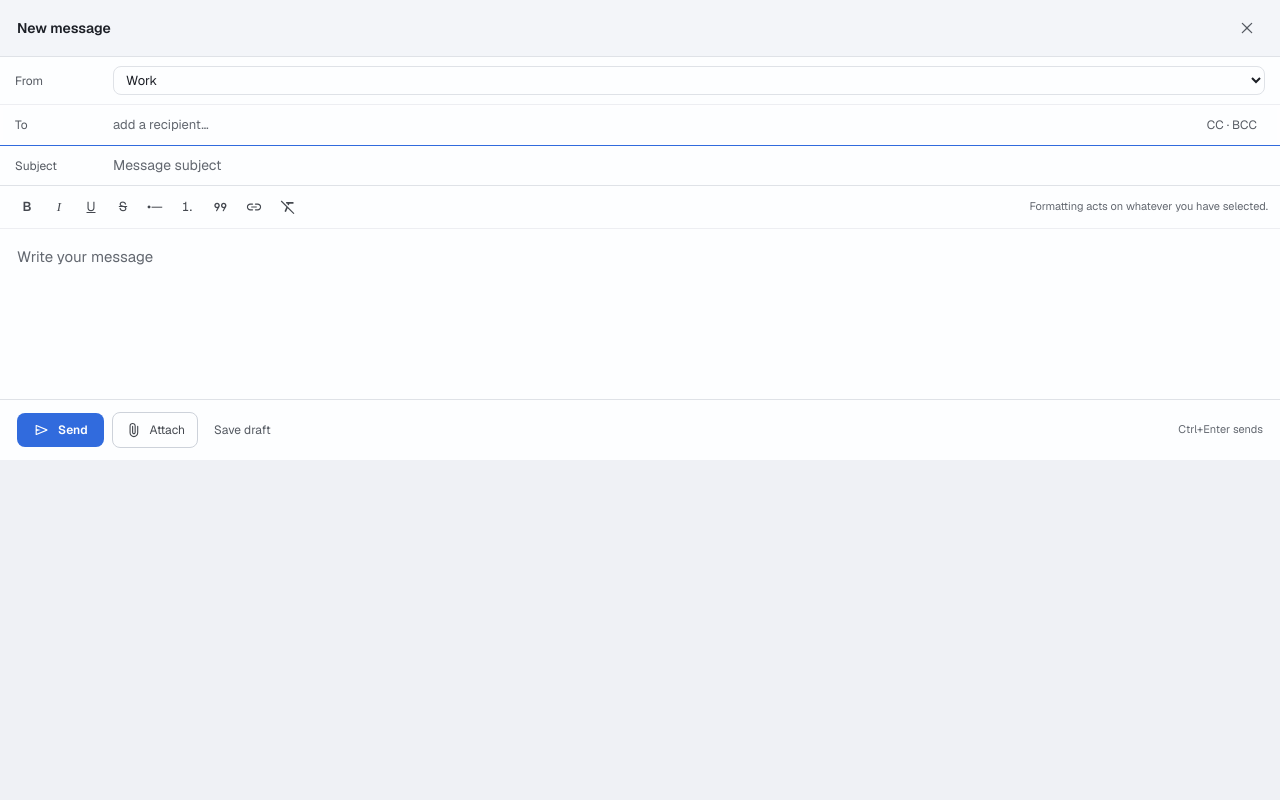
it: Composer, a message of its own › draws every header on one grid, each field named in the column beside what is written in it
The width and height of the screenshot is (1280, 800).
Click the button with aria-label "Show CC and BCC fields" at (1232,125), box [1199,114,1265,136]
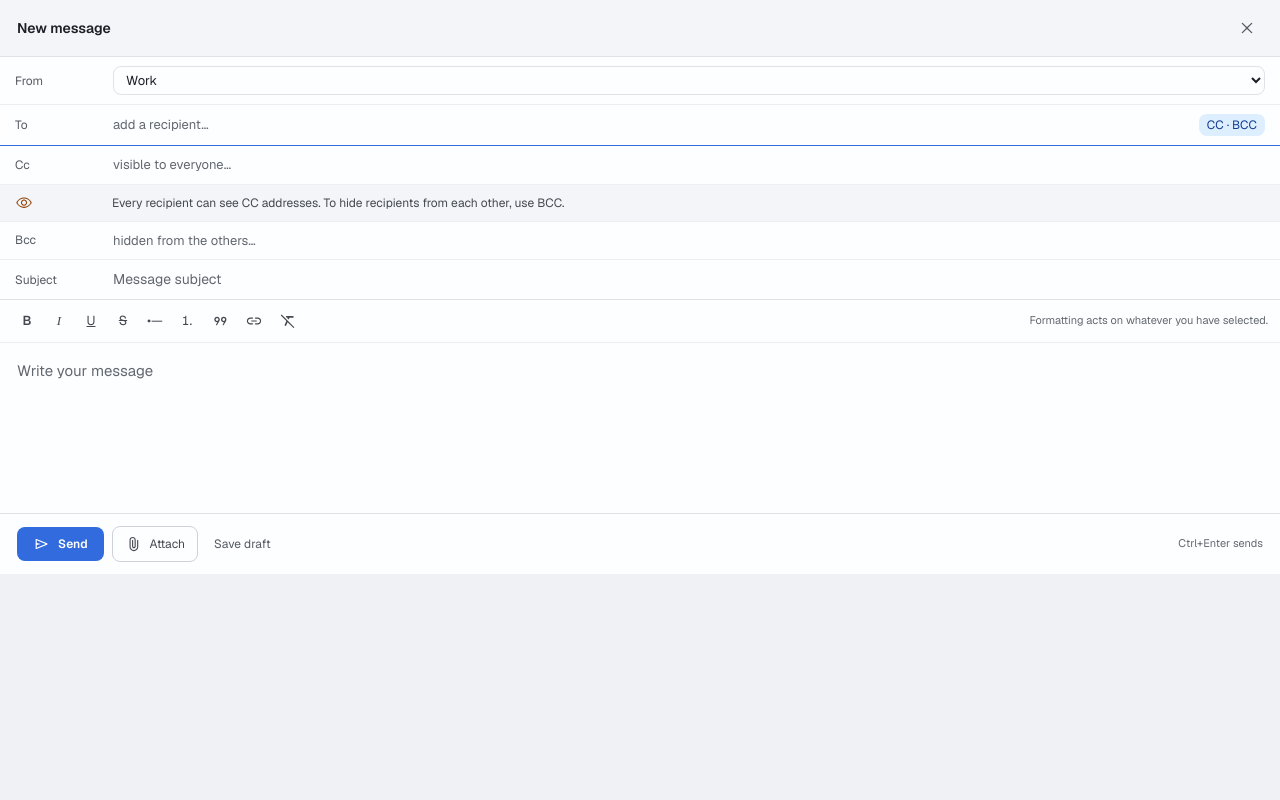
Expected: the dropdown labelled "From" is shown, [113,66,1265,95]
Expected: the dropdown labelled "Cc" is shown, [113,155,1265,174]
Expected: the dropdown labelled "Bcc" is shown, [113,230,1265,250]
